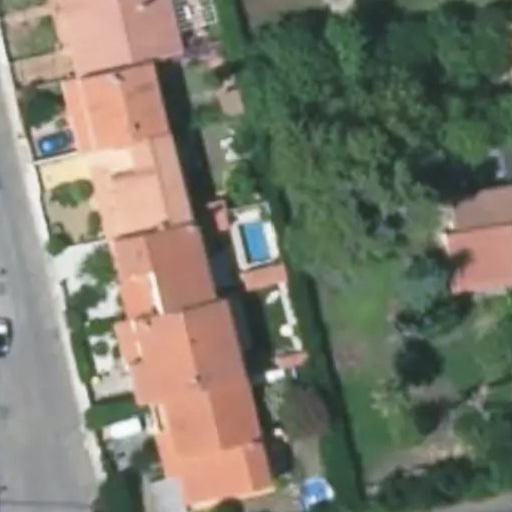pool: (235, 222, 276, 261)
